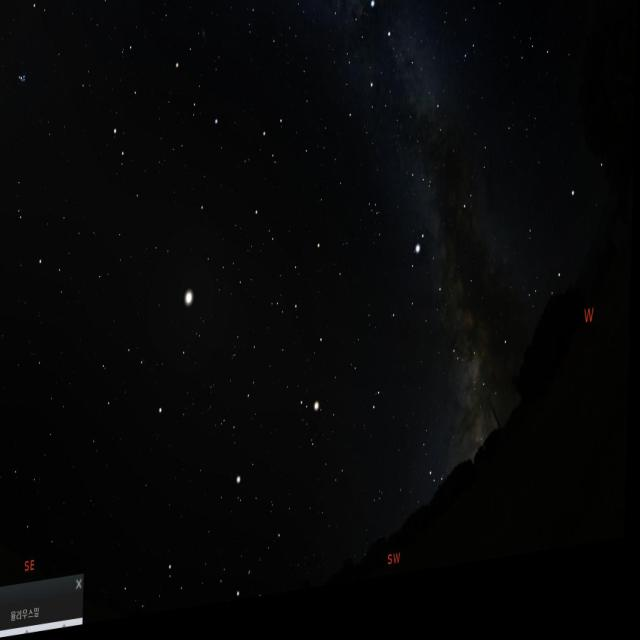aquila: (388, 240, 480, 396)
cygnus: (360, 0, 448, 145)
lyra: (456, 0, 485, 90)
pleiades: (8, 53, 36, 101)
